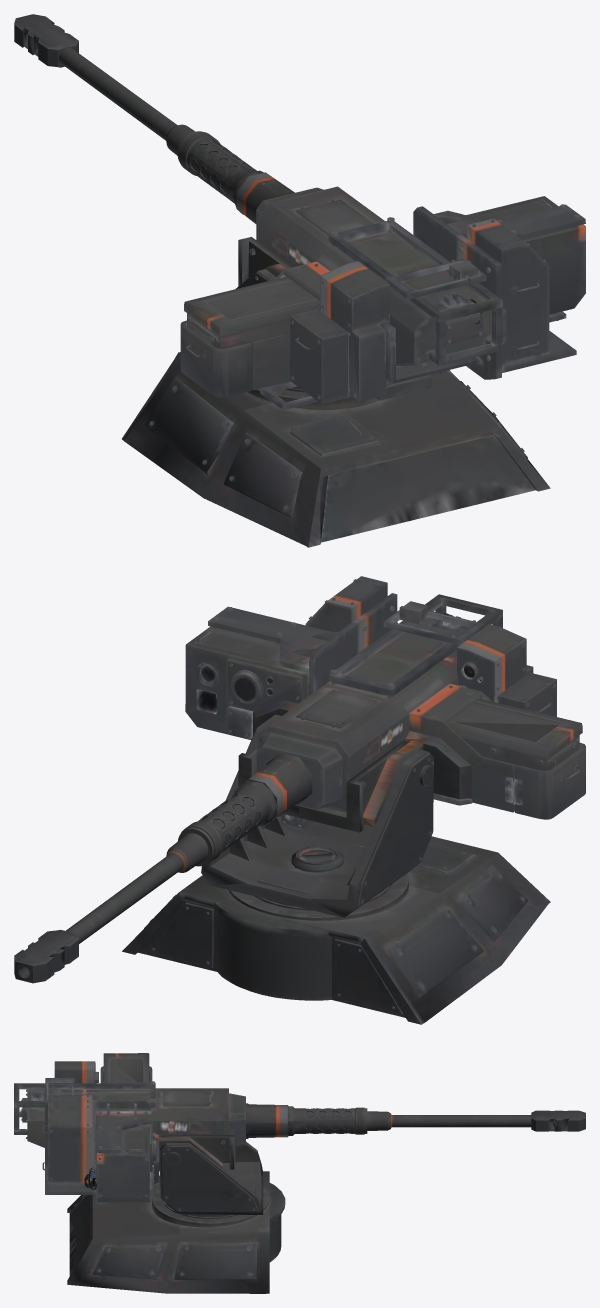
File: turret.glb
3 views of the same model, one above another, from view 1: azimuth 30°, elevation 25°; view 2: azimuth 150°, elevation 25°; view 3: azimuth 270°, elevation 25° (orthographic). The views are drawn at different scales.
Visible parts, largest first — view 1: Turret_Gun, Turret_Base; view 2: Turret_Gun, Turret_Base; view 3: Turret_Gun, Turret_Base.
Part boxes in pixels (x1,y1,x2,y2): Turret_Gun: [14, 14, 585, 410]; Turret_Base: [122, 352, 550, 547]; Turret_Gun: [14, 576, 585, 983]; Turret_Base: [122, 814, 550, 1024]; Turret_Gun: [14, 1053, 585, 1204]; Turret_Base: [67, 1148, 285, 1293].
Size of the model in its own units: 1.06 by 0.724 by 2.2.
Materials: 5 (5 with a texture image).
